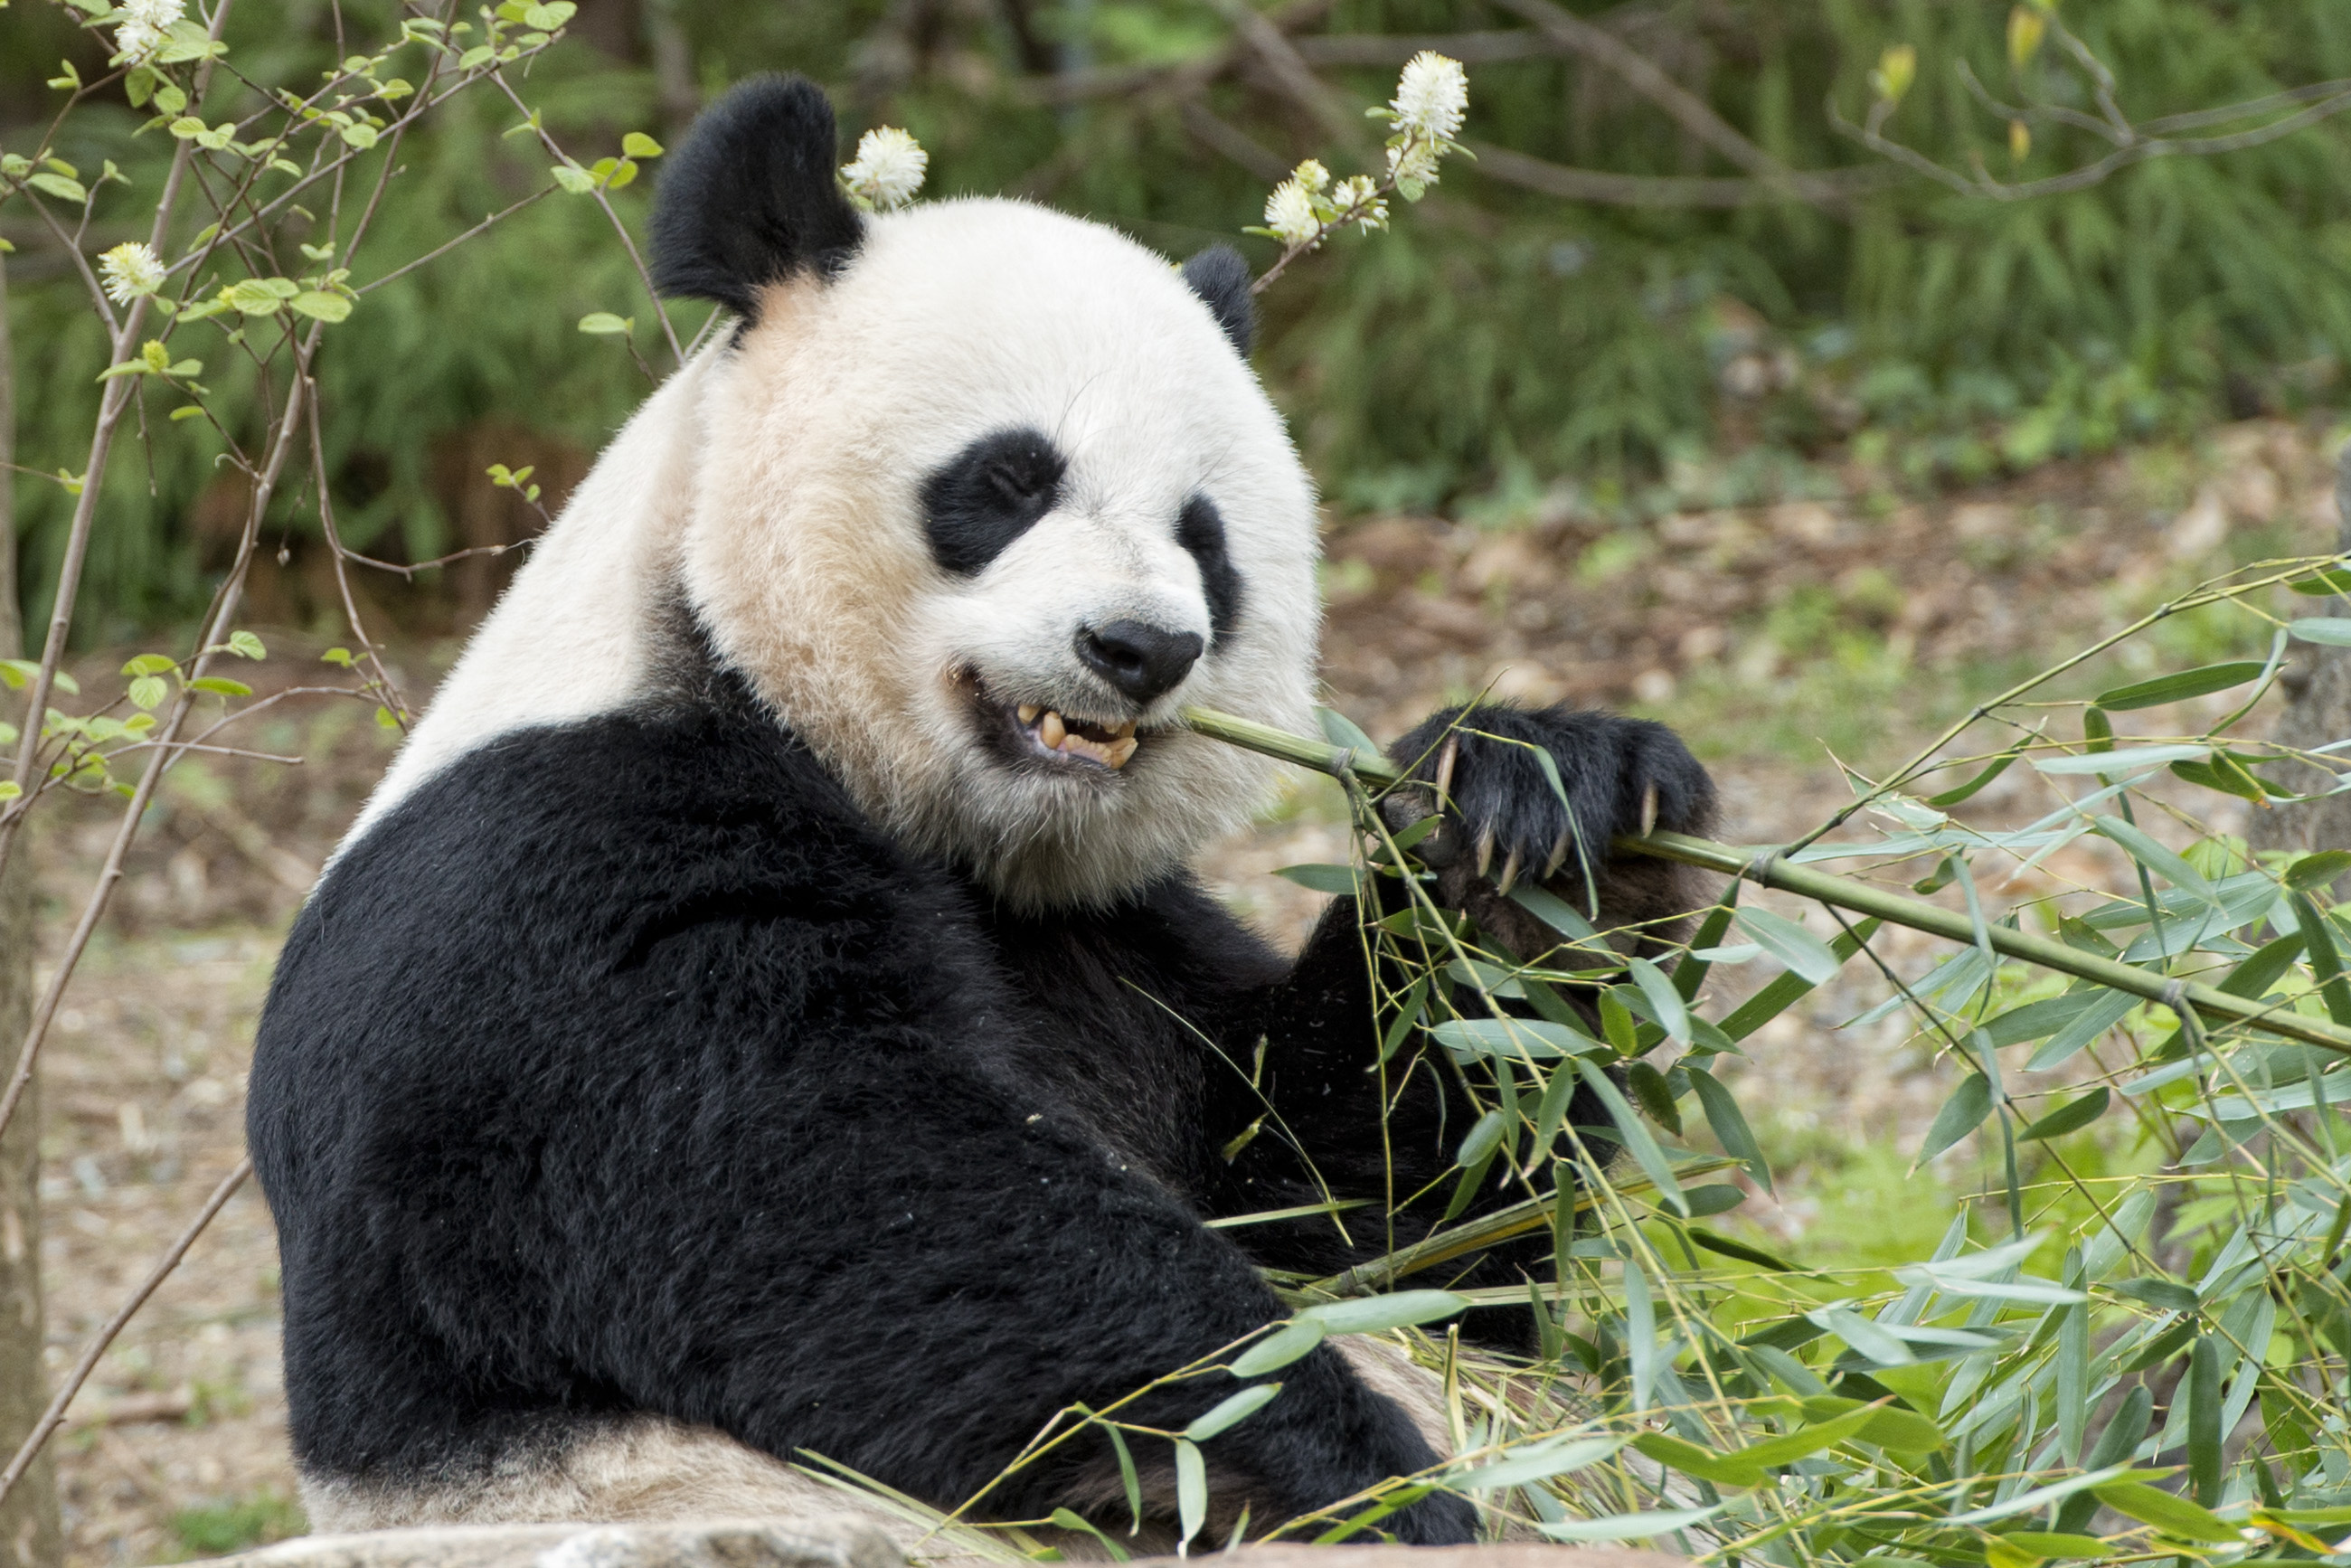panda: (262, 65, 1823, 1533)
